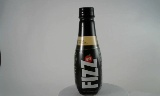appyfizz: (68, 6, 95, 95)
